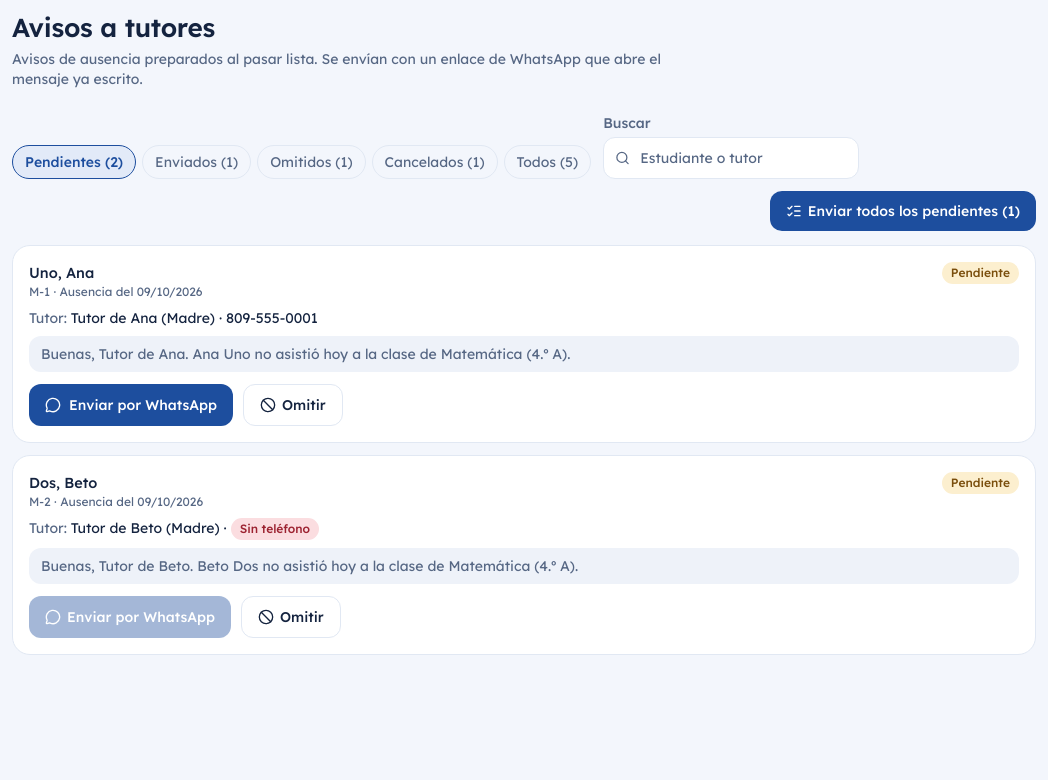
Scenario: Avisos a tutores › muestra la nota de los omitidos y explica los cancelados
Click the tab "Omitidos (1)" at (311,162), box [257,144,366,178]
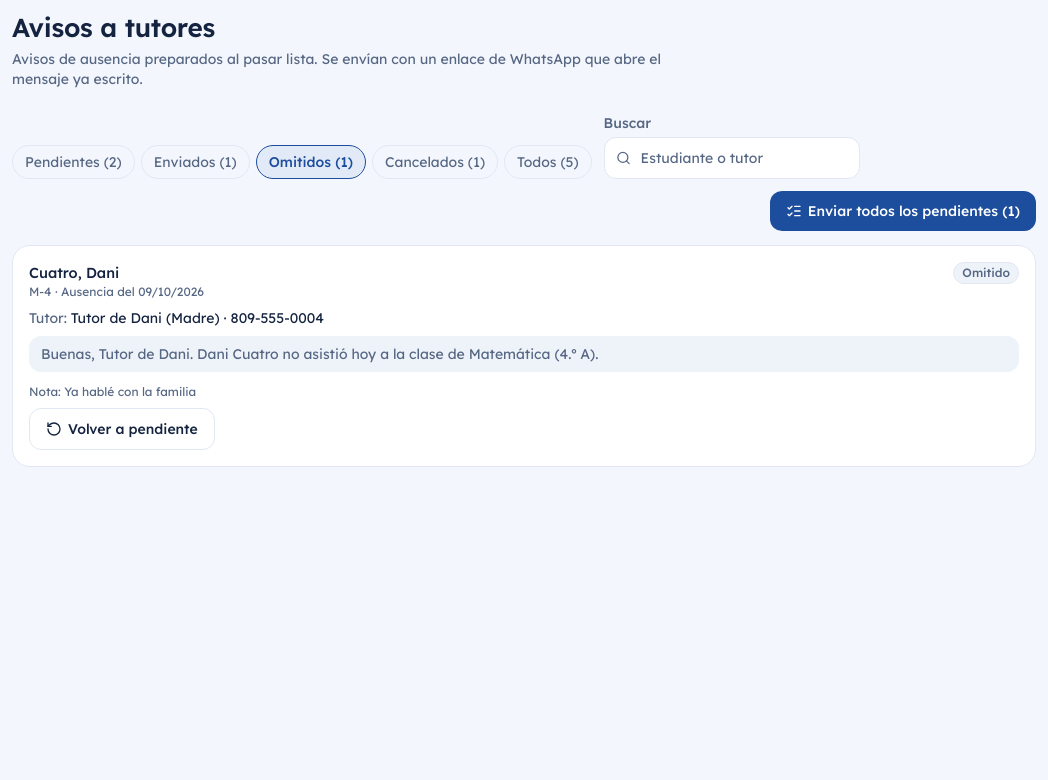
Check: the text "Nota: Ya hablé con la familia" is shown, box [29,384,196,399]
Click the tab "Cancelados (1)" at (435,162), box [372,144,498,178]
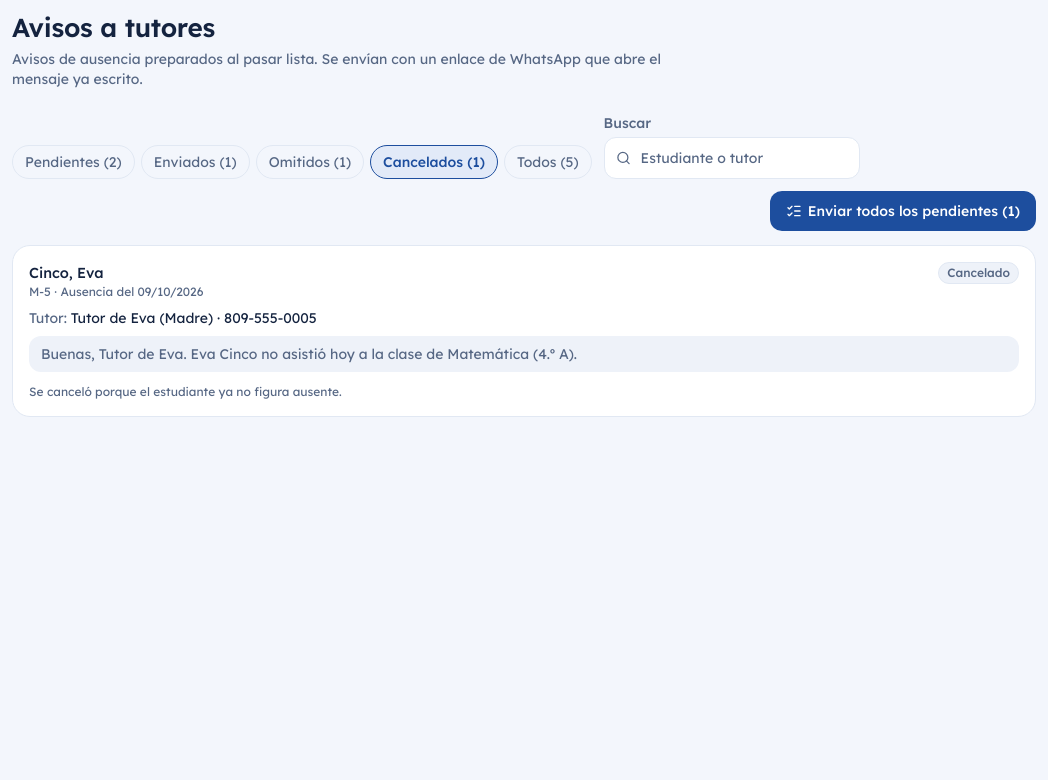
Check: the text "ya no figura ausente" is shown, box [29,384,342,399]
